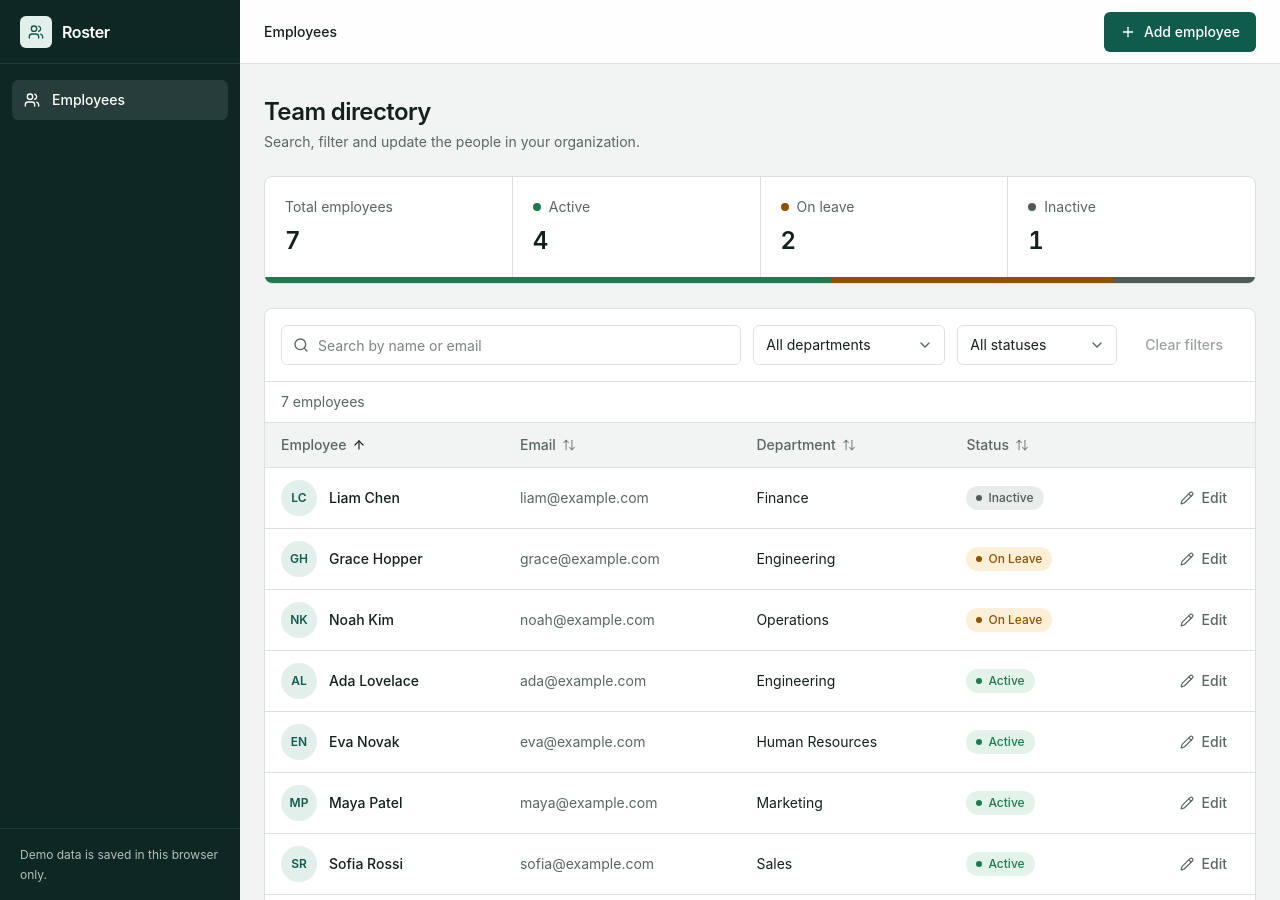
Test case: EmployeesPage: search and filters › clears all filters
Expected: the text "Ada Lovelace" is shown, [329,671,419,691]
Expected: the button "Clear filters" is disabled, [1129,325,1239,365]
Step 1. Type "ada" into the search field named "Search employees" → coordinates (511, 345), box [281,325,741,365]
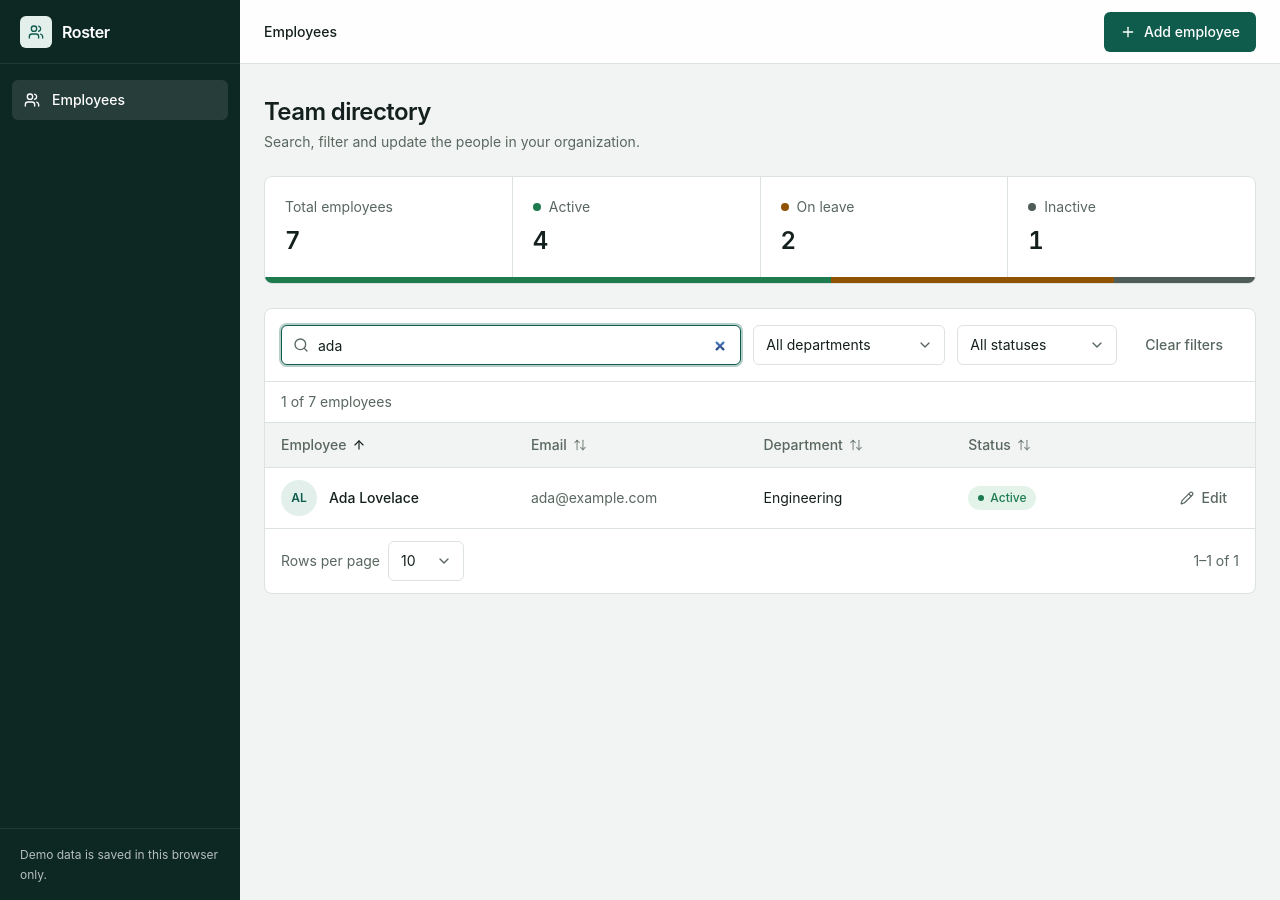
Step 2. Select "Active" in the 2nd dropdown named "Filter by status" → coordinates (1037, 345), box [957,325,1117,365]
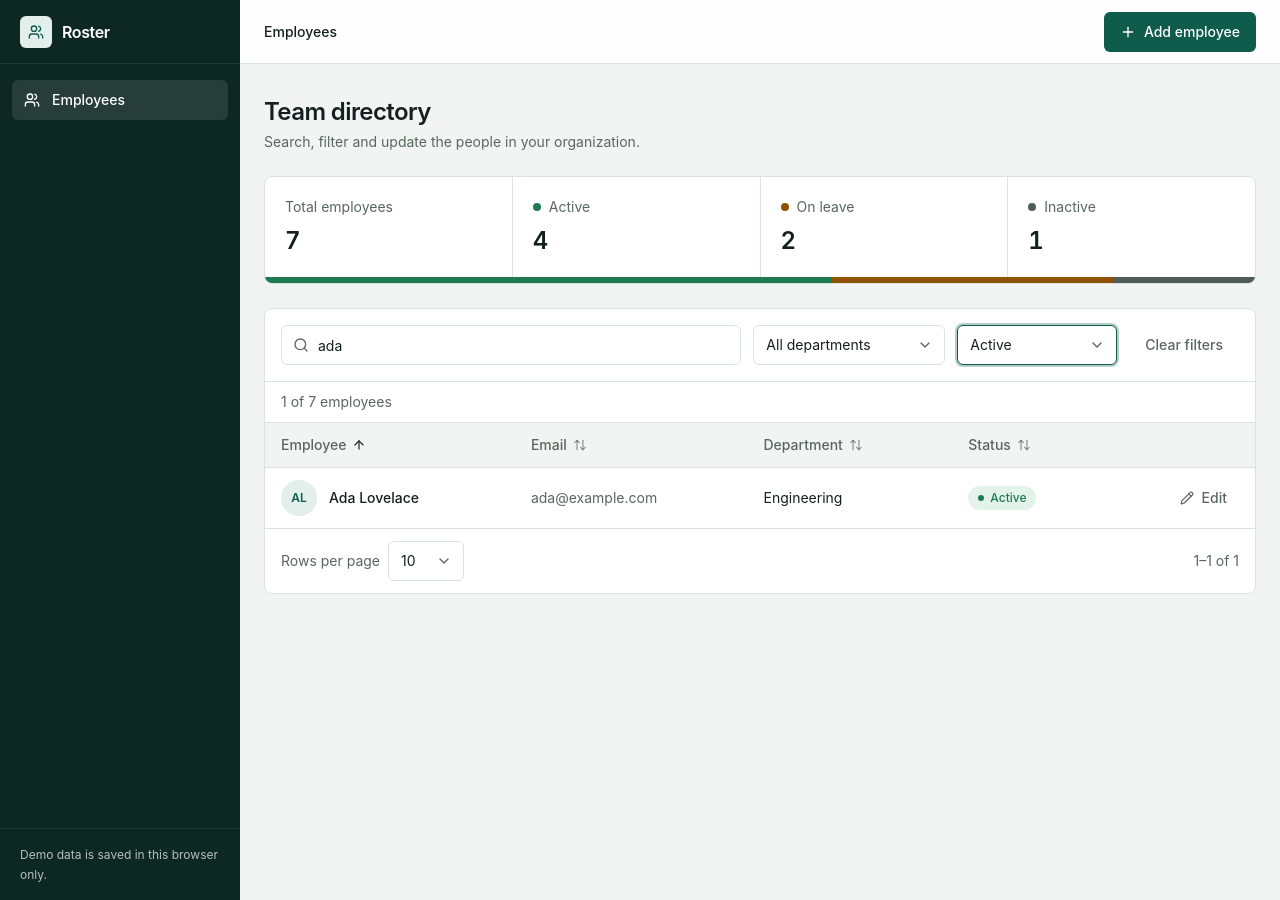
Now the button "Clear filters" is enabled
Step 3. Click the button "Clear filters" → coordinates (1184, 345), box [1129,325,1239,365]
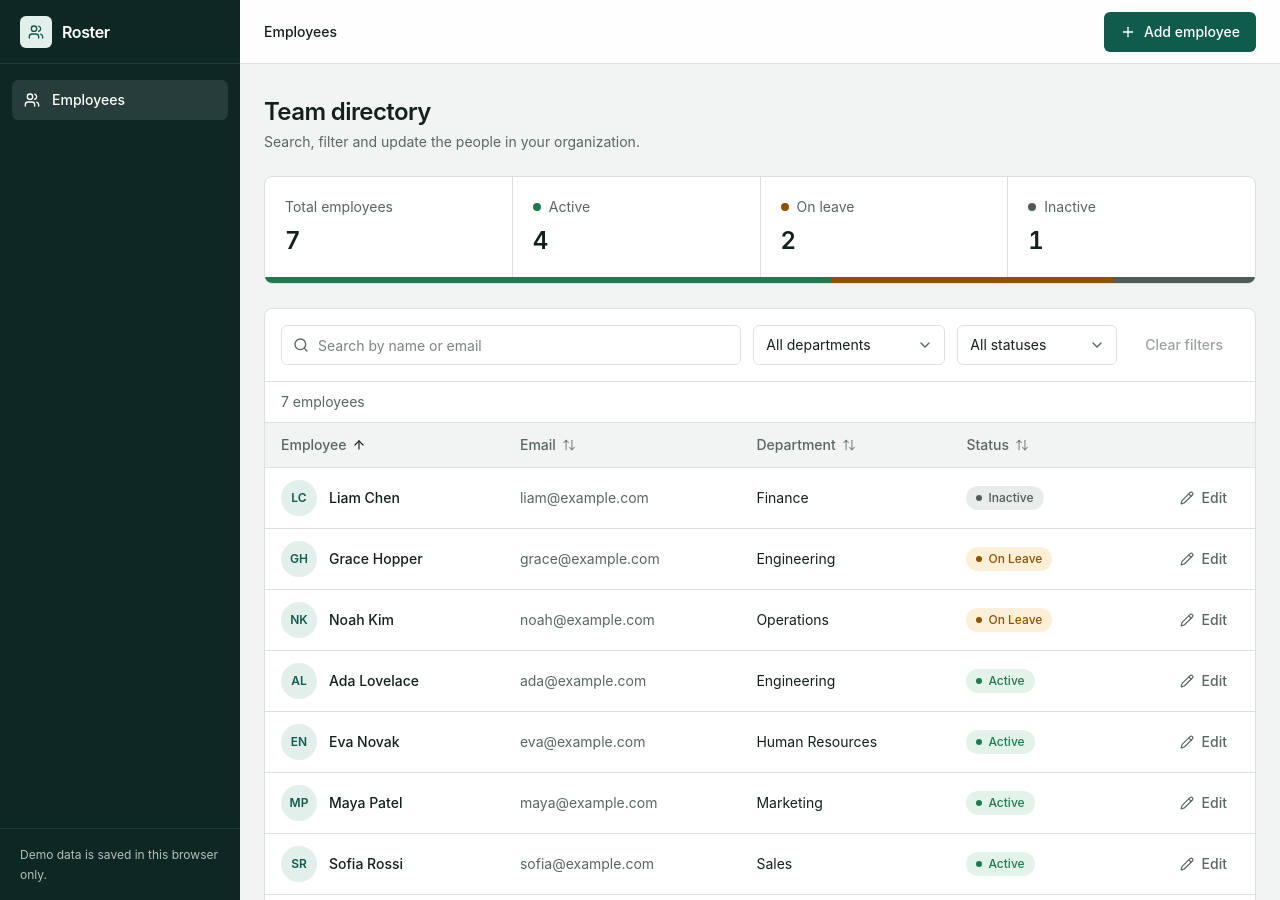
Expected: the text "7 employees" is shown, [265,382,1255,423]
Now the search field named "Search employees" is empty, box [281,325,741,365]
